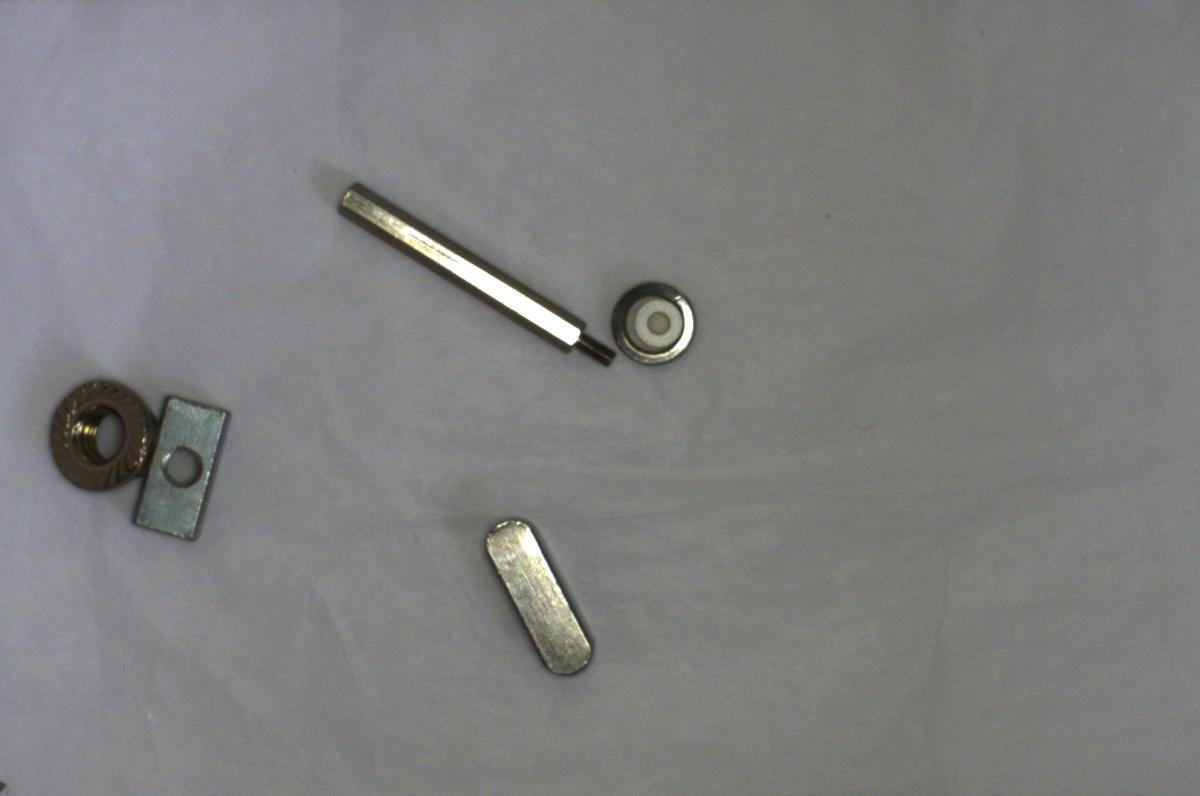Flange nut: (34, 374, 157, 496)
Hexagonal steel column: (326, 180, 613, 373)
Keybar: (475, 510, 595, 682)
Plastic cushion pillar: (632, 298, 681, 348)
Rectangular nut: (130, 388, 235, 538)
Spring washer: (600, 274, 701, 367)
